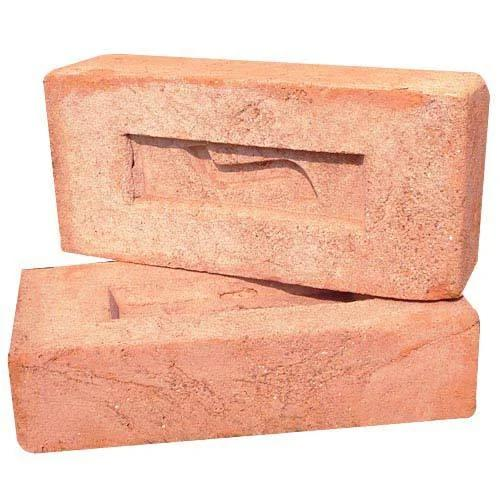brick: (43, 76, 468, 304), (10, 313, 479, 454)
